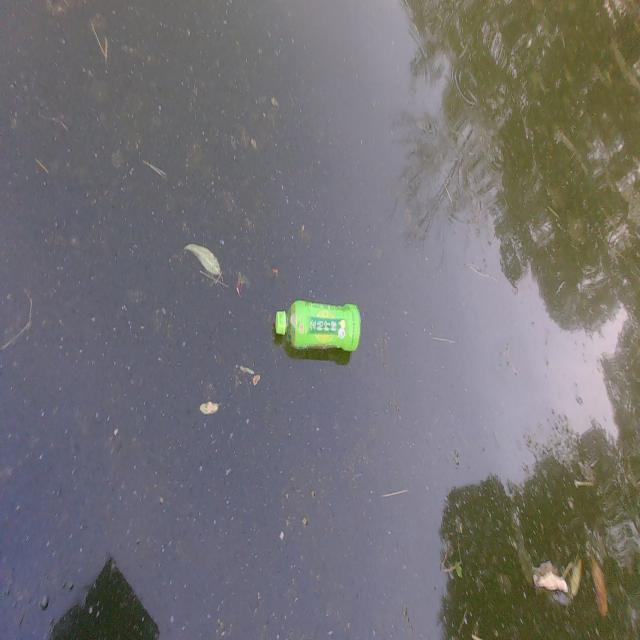Bottle: (272, 294, 364, 361)
